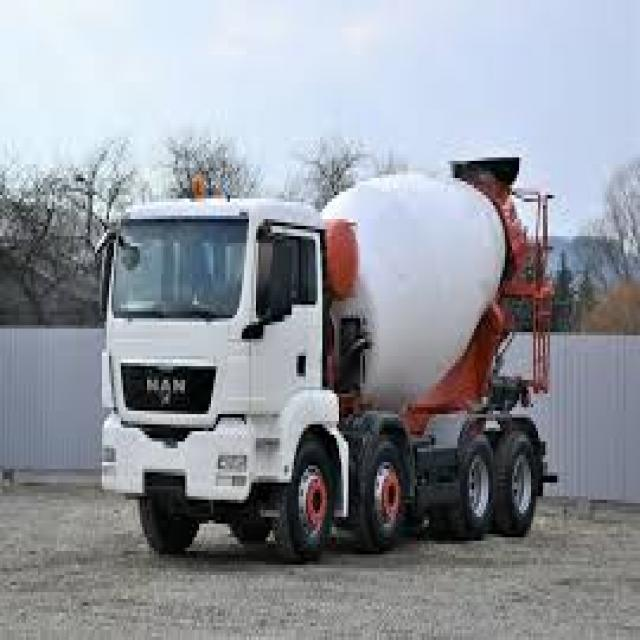Mixer Truck: (93, 152, 561, 560)
